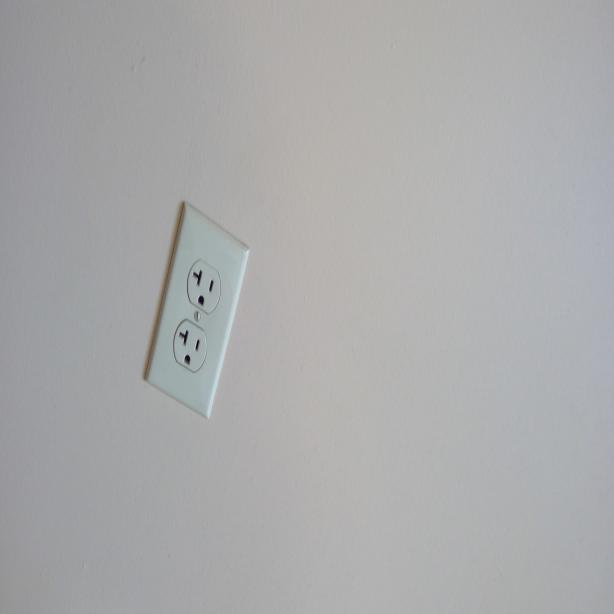typeb: (183, 260, 222, 311), (173, 324, 210, 370)
